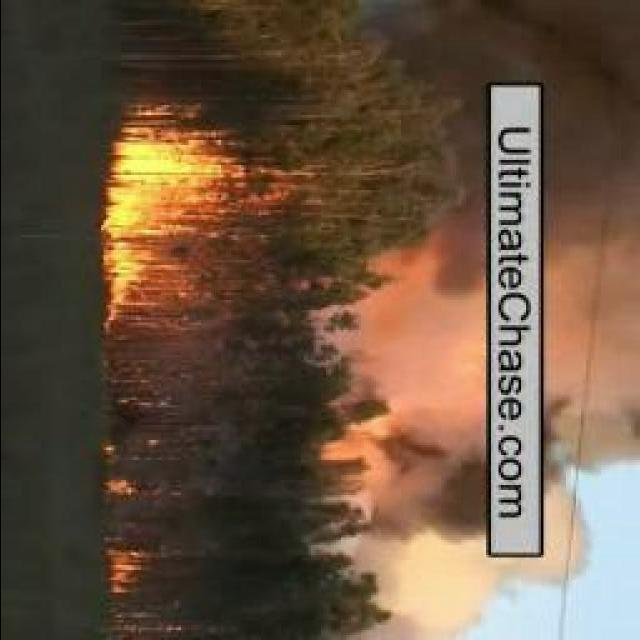Fire: (106, 127, 233, 320), (110, 544, 160, 604), (106, 481, 142, 502)
